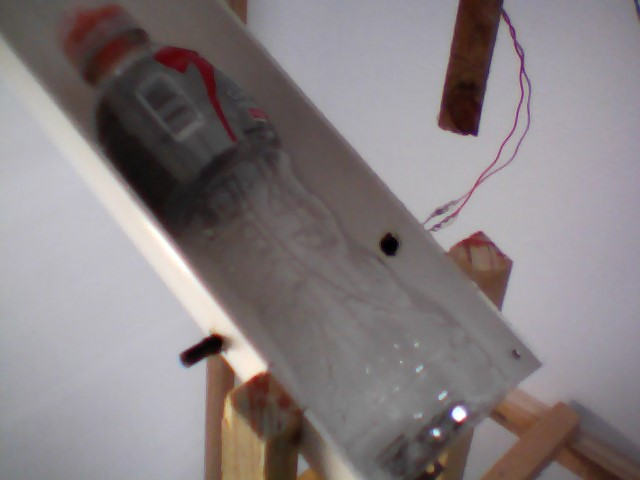plastico: (44, 1, 514, 480)
